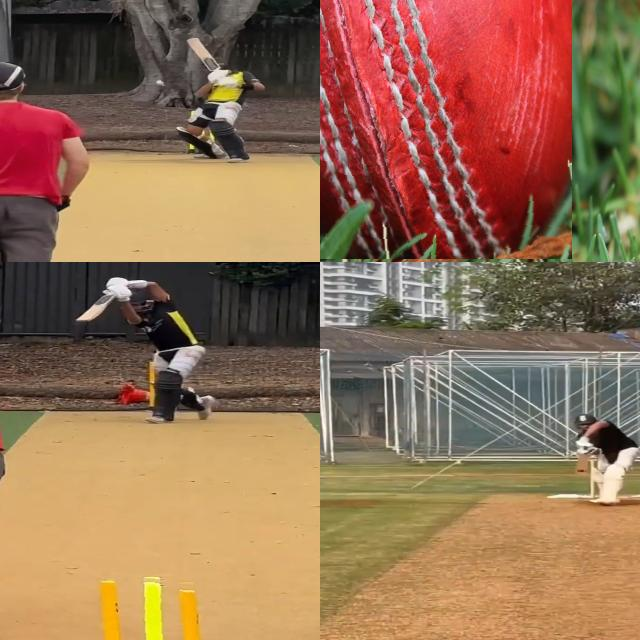Cricket ball: (320, 0, 571, 259), (154, 78, 166, 86), (578, 468, 586, 472)
Stumps: (79, 573, 218, 640)
